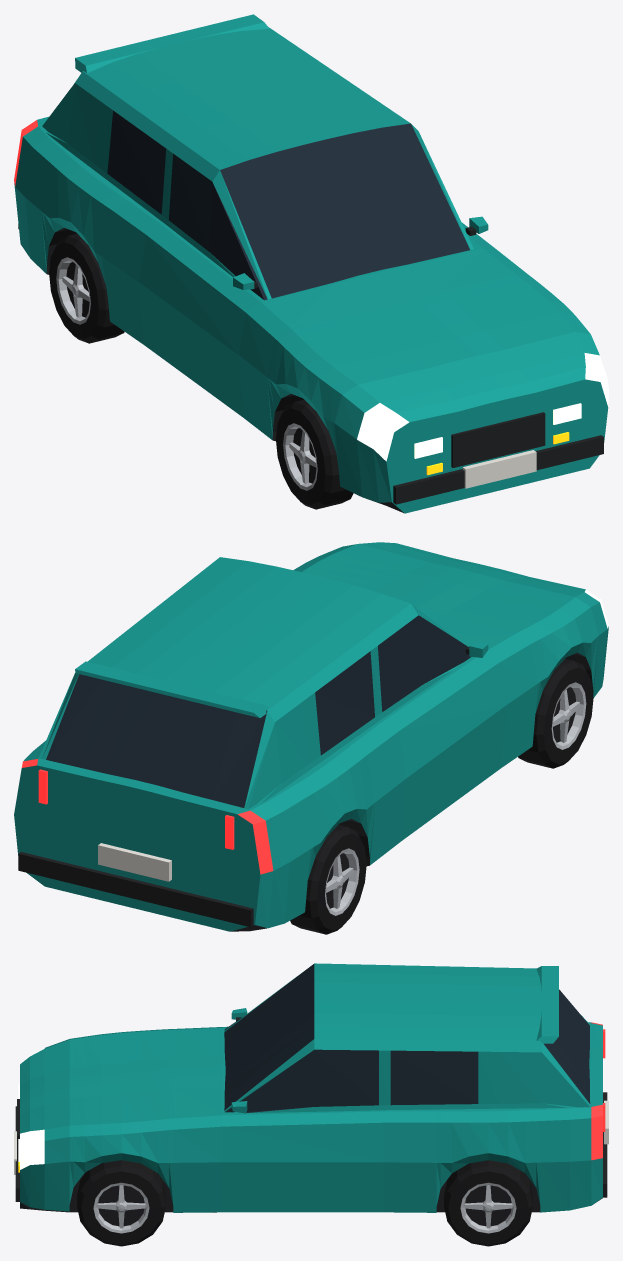
File: hatchback-01.glb
The picture shows the model from 3 angles, top to bottom: view 1: azimuth 30°, elevation 25°; view 2: azimuth 150°, elevation 25°; view 3: azimuth 270°, elevation 25°; orthographic projection. The views are drawn at different scales.
Visible parts, largest first — view 1: Body, Wheel_FR, Wheel_RR; view 2: Body, Wheel_RR, Wheel_FR; view 3: Body, Wheel_FL, Wheel_RL.
Part boxes in pixels (x1,y1,x2,y2): Body: (14, 14, 608, 513); Wheel_FR: (275, 399, 353, 509); Wheel_RR: (49, 233, 124, 343); Body: (14, 542, 608, 931); Wheel_RR: (290, 824, 366, 934); Wheel_FR: (518, 658, 593, 768); Body: (14, 963, 608, 1212); Wheel_FL: (77, 1160, 165, 1246); Wheel_RL: (444, 1160, 532, 1246).
Size of the model in its own units: 1.78 by 1.52 by 4.13.
